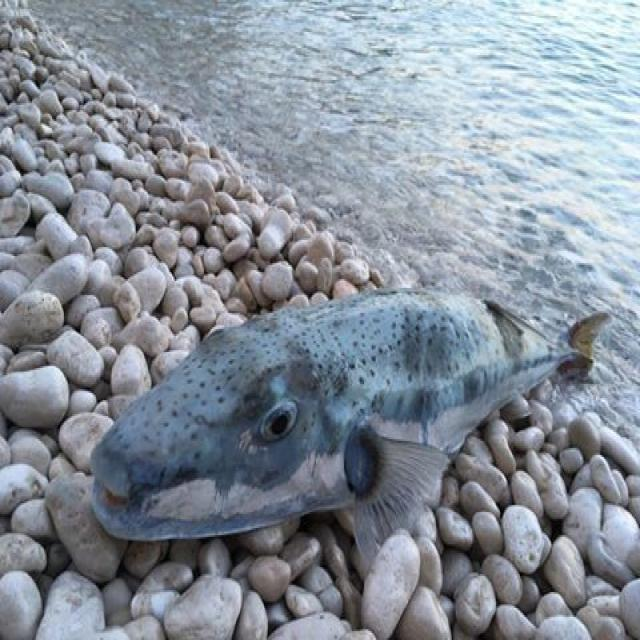Balik: (92, 290, 607, 556)
